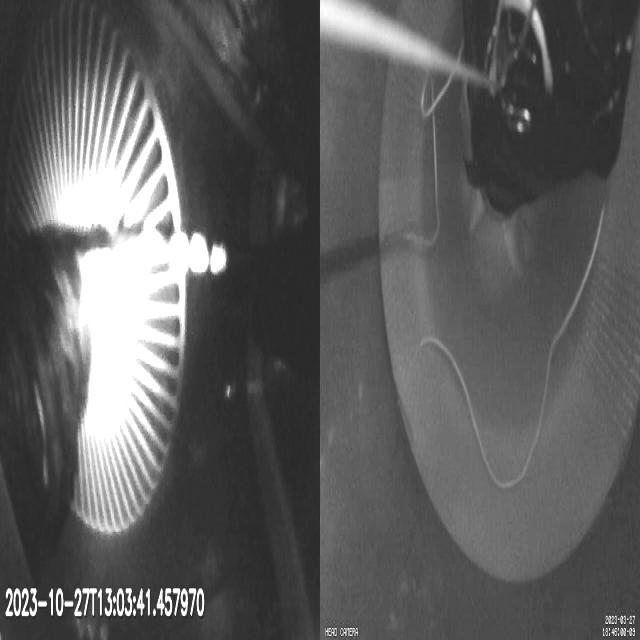white-dots: (169, 230, 227, 279)
